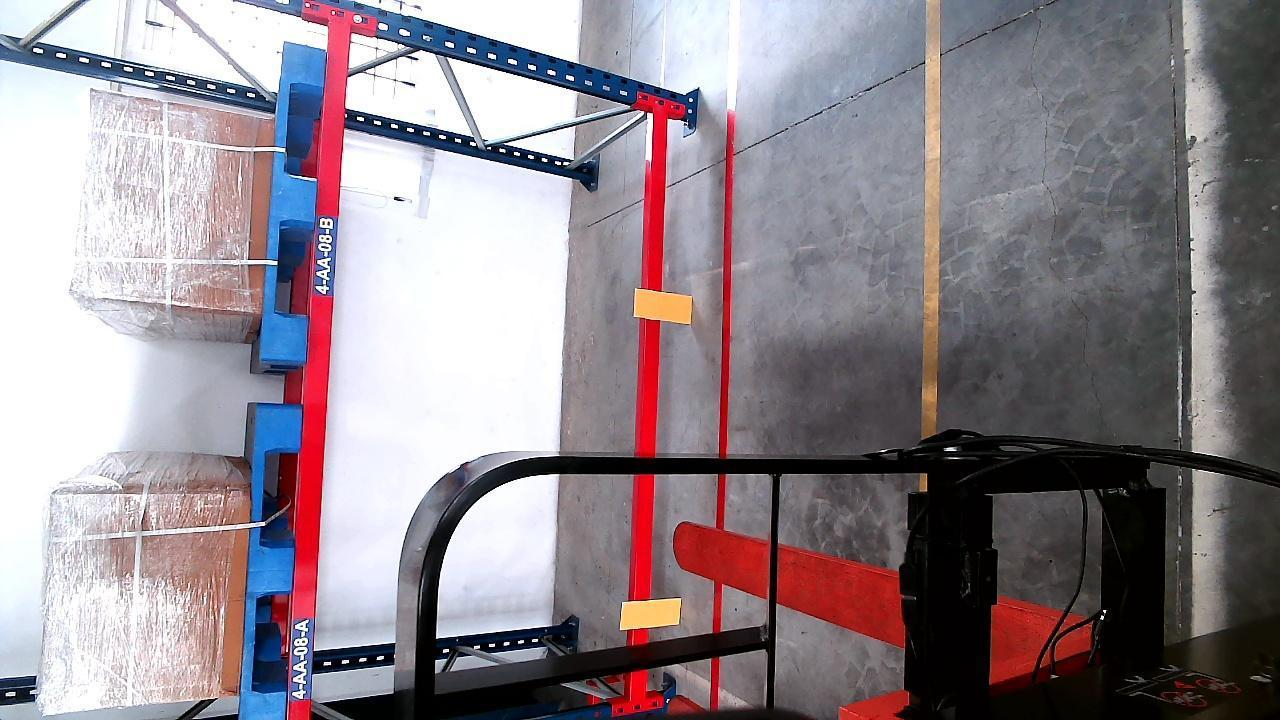h_rack: (291, 19, 349, 718), (630, 112, 671, 696)
orange_strip: (622, 598, 683, 629), (638, 291, 691, 322)
red_line: (710, 111, 738, 703)
small_pallet: (239, 397, 300, 720), (260, 41, 321, 360)
yellow_line: (921, 4, 945, 426)
